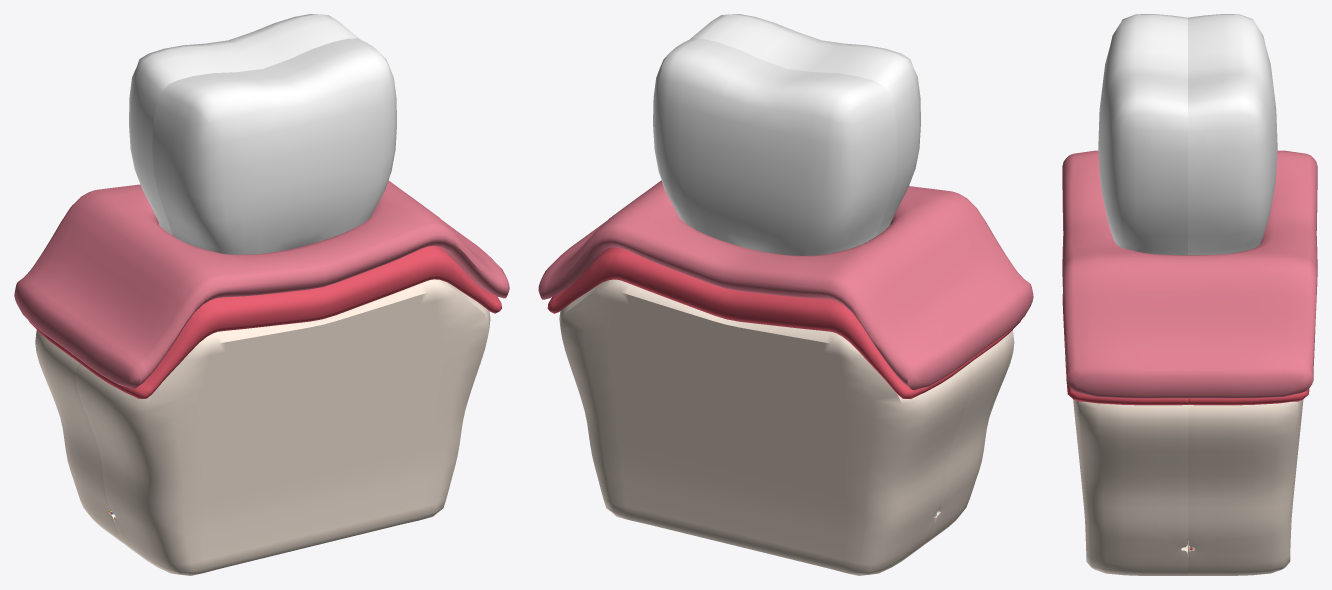
The model's file is tooth-final02.glb.
3 views of the same model, side by side, from view 1: azimuth 30°, elevation 25°; view 2: azimuth 150°, elevation 25°; view 3: azimuth 270°, elevation 25° (orthographic).
Parts seen in each view (by area): view 1: bone_front, enamel_front, gum_top_front, gum_top_back, gum_bottom_front, enamel_back, bone_back; view 2: bone_back, enamel_back, gum_top_back, gum_top_front, gum_bottom_back, enamel_front, bone_front; view 3: gum_top_back, gum_top_front, enamel_back, enamel_front, bone_front, bone_back, gum_bottom_front, gum_bottom_back.
Boxes of the visible parts, x1,y1,x2,y2 form: bone_front: (76, 279, 490, 575); enamel_front: (152, 38, 396, 254); gum_top_front: (64, 181, 509, 388); gum_top_back: (14, 180, 452, 349); gum_bottom_front: (72, 246, 501, 398); enamel_back: (129, 14, 359, 235); bone_back: (35, 330, 123, 543); bone_back: (559, 279, 973, 575); enamel_back: (653, 38, 897, 255); gum_top_back: (538, 181, 983, 390); gum_top_front: (595, 180, 1033, 350); gum_bottom_back: (547, 247, 977, 398); enamel_front: (690, 14, 920, 235); bone_front: (925, 330, 1014, 543); gum_top_back: (1190, 150, 1317, 398); gum_top_front: (1062, 150, 1189, 398); enamel_back: (1188, 14, 1277, 255); enamel_front: (1098, 14, 1187, 255); bone_front: (1073, 399, 1188, 575); bone_back: (1188, 399, 1303, 575); gum_bottom_front: (1062, 294, 1188, 405); gum_bottom_back: (1188, 388, 1309, 405).
Size of the model in its own units: 6.29 by 6.99 by 3.54.
